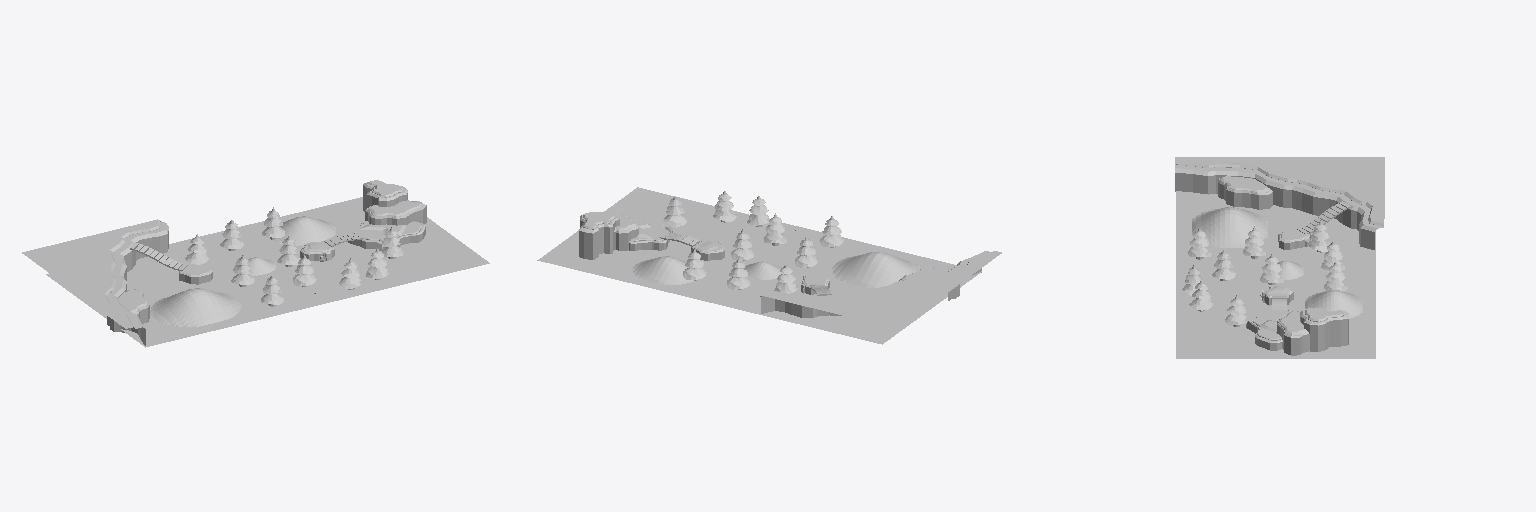
The model's file is Start_Level_Blockout.obj.
3 views of the same model, side by side, from view 1: azimuth 30°, elevation 25°; view 2: azimuth 150°, elevation 25°; view 3: azimuth 270°, elevation 25° (orthographic).
Parts seen in each view (by area): view 1: Plane, Plane.005_Plane.014, Plane.003_Plane.009, Plane.008_Plane.011, Plane.004_Plane.012, Plane.001, Plane.009_Plane.013, Plane.010_Plane.015, Plane.002_Plane.008; view 2: Plane, Plane.005_Plane.014, Plane.003_Plane.009, Plane.009_Plane.013, Plane.001, Plane.008_Plane.011, Plane.004_Plane.012; view 3: Plane, Plane.005_Plane.014, Plane.003_Plane.009, Plane.009_Plane.013, Plane.010_Plane.015, Plane.004_Plane.012, Plane.001, Plane.008_Plane.011, Plane.002_Plane.008.
Boxes of the visible parts, x1,y1,x2,y2 form: Plane: [46, 197, 489, 347]; Plane.005_Plane.014: [22, 219, 168, 345]; Plane.003_Plane.009: [150, 288, 241, 327]; Plane.008_Plane.011: [348, 221, 425, 251]; Plane.004_Plane.012: [365, 200, 426, 225]; Plane.001: [273, 216, 336, 245]; Plane.009_Plane.013: [363, 180, 407, 211]; Plane.010_Plane.015: [107, 289, 149, 332]; Plane.002_Plane.008: [179, 264, 212, 284]; Plane: [537, 187, 981, 344]; Plane.005_Plane.014: [759, 251, 1001, 328]; Plane.003_Plane.009: [831, 252, 921, 288]; Plane.009_Plane.013: [579, 212, 619, 259]; Plane.001: [632, 256, 693, 284]; Plane.008_Plane.011: [629, 216, 672, 250]; Plane.004_Plane.012: [596, 212, 638, 250]; Plane: [1176, 191, 1375, 358]; Plane.005_Plane.014: [1175, 157, 1384, 249]; Plane.003_Plane.009: [1192, 207, 1267, 247]; Plane.009_Plane.013: [1300, 308, 1348, 351]; Plane.010_Plane.015: [1218, 176, 1272, 209]; Plane.004_Plane.012: [1277, 311, 1309, 355]; Plane.001: [1305, 290, 1362, 318]; Plane.008_Plane.011: [1246, 310, 1291, 350]; Plane.002_Plane.008: [1278, 229, 1310, 249].
Bounding box in the file's own units: 217 × 19.5 × 108.